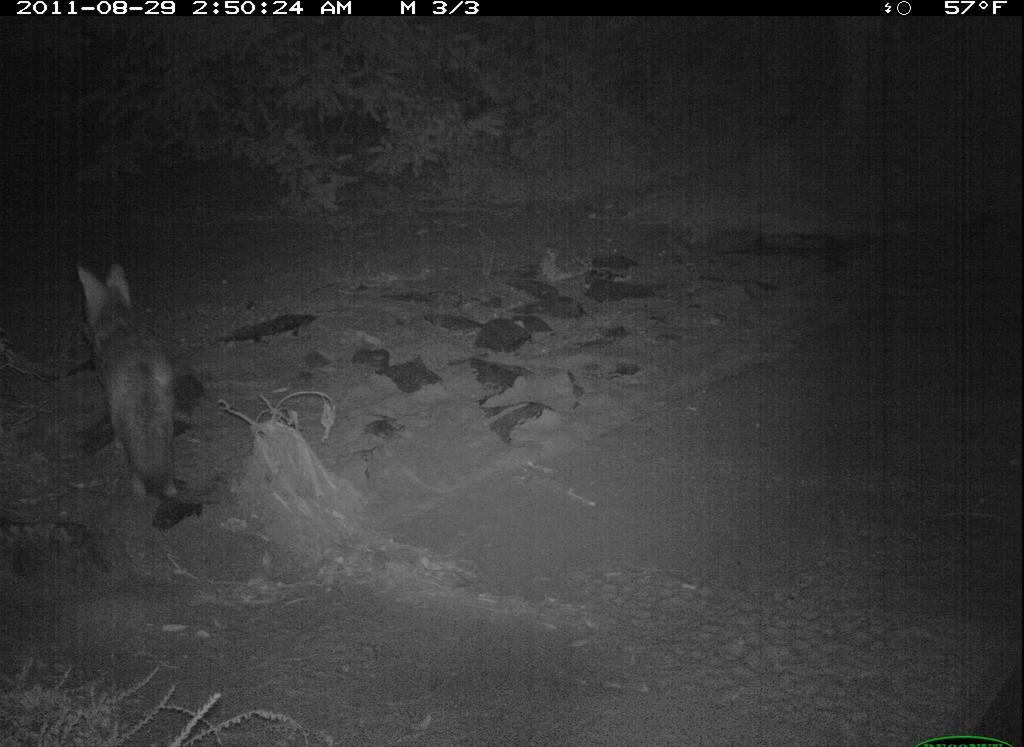coyote: (73, 257, 195, 513)
